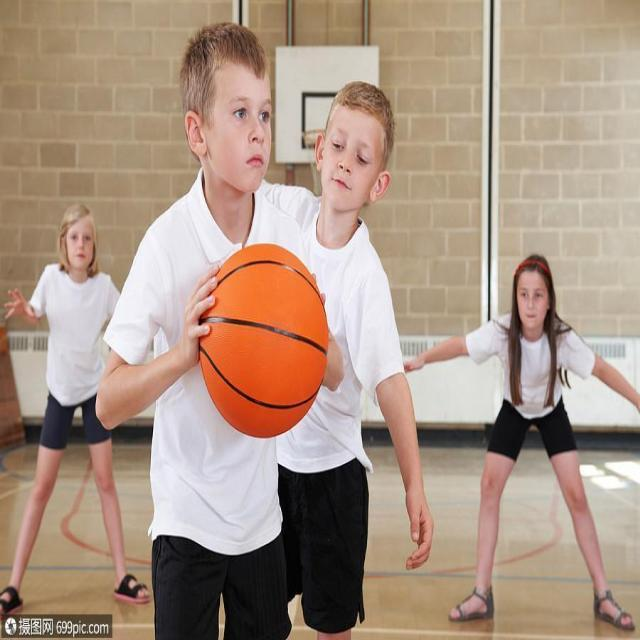rim: (201, 243, 331, 438)
